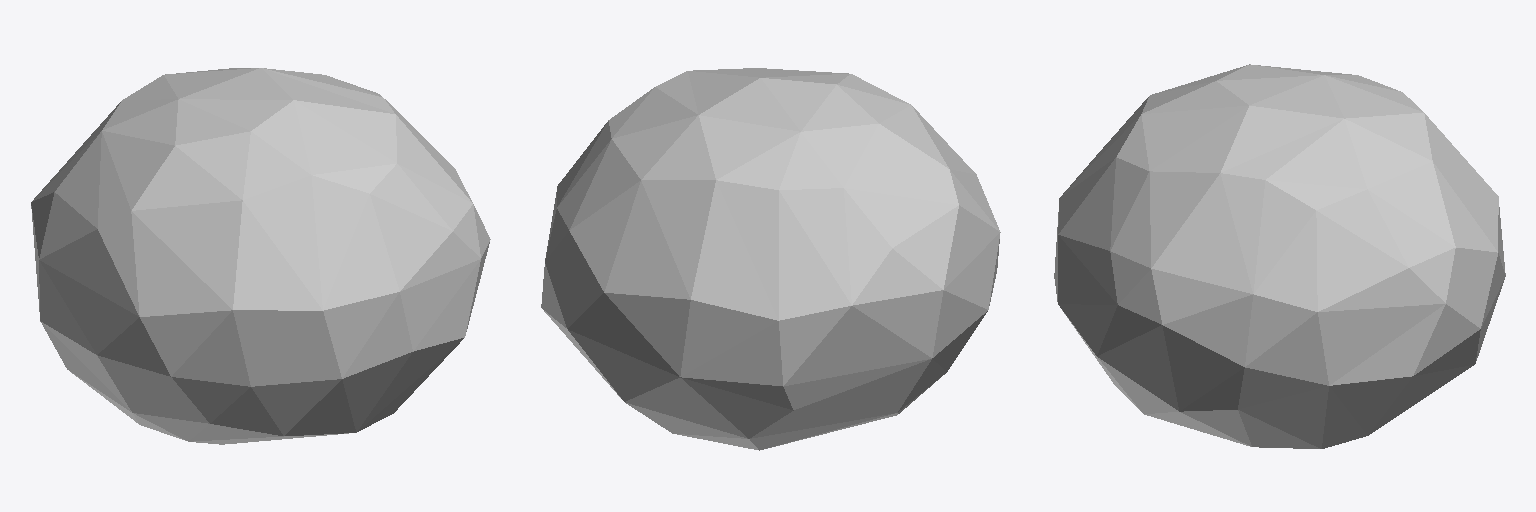
The model's file is rock.obj.
The picture shows the model from 3 angles: view 1: azimuth 30°, elevation 25°; view 2: azimuth 150°, elevation 25°; view 3: azimuth 270°, elevation 25°; orthographic projection.
Parts seen in each view (by area): view 1: Cube; view 2: Cube; view 3: Cube.
Part boxes in pixels (bbox=[...]): Cube: bbox=[31, 68, 490, 444]; Cube: bbox=[541, 68, 1000, 450]; Cube: bbox=[1054, 64, 1505, 448].
Size of the model in its own units: 1.69 by 1.33 by 1.69.